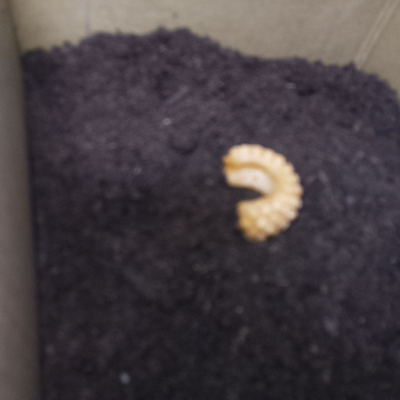eggs: (214, 134, 308, 247)
